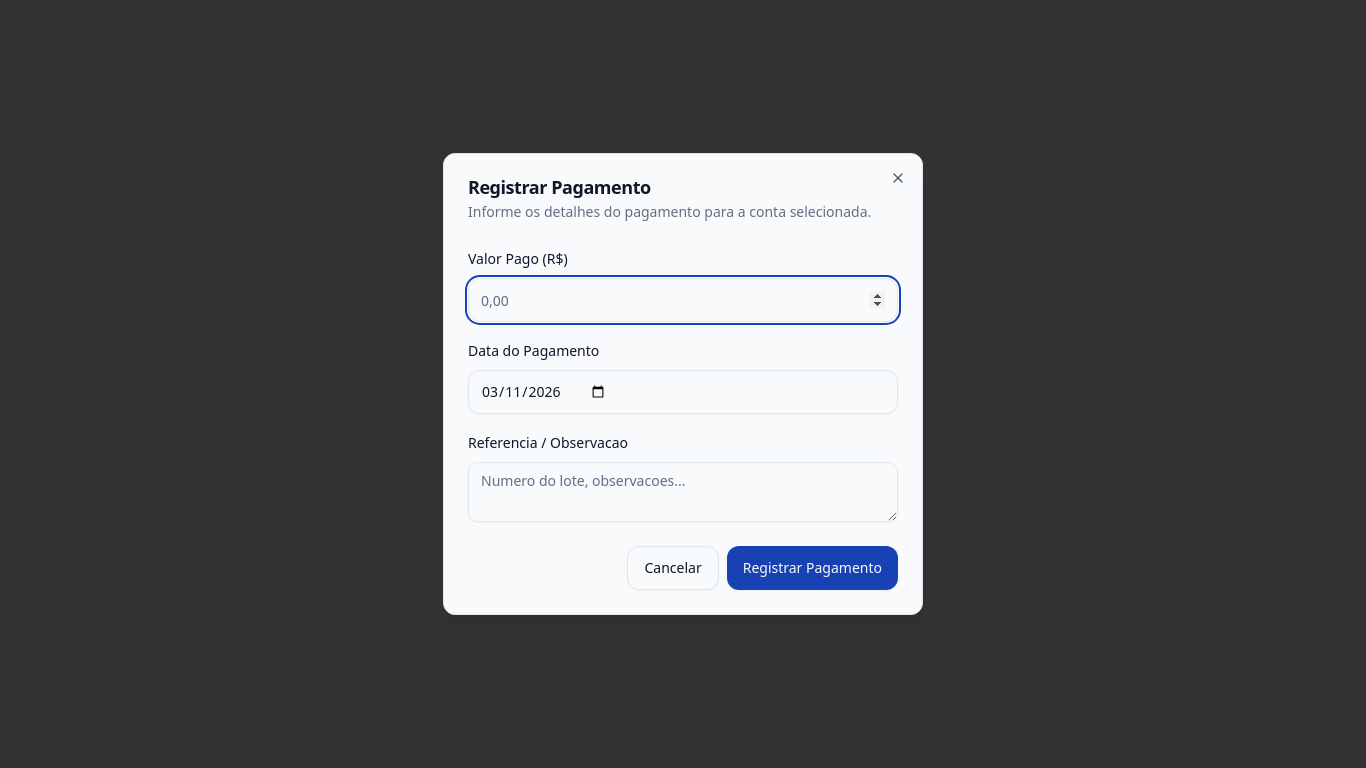
CreatePaymentModal › shows error on submission failure
Type "100" into the number field labelled "Valor Pago (R$)" at (683, 300), box [468,278,898,322]
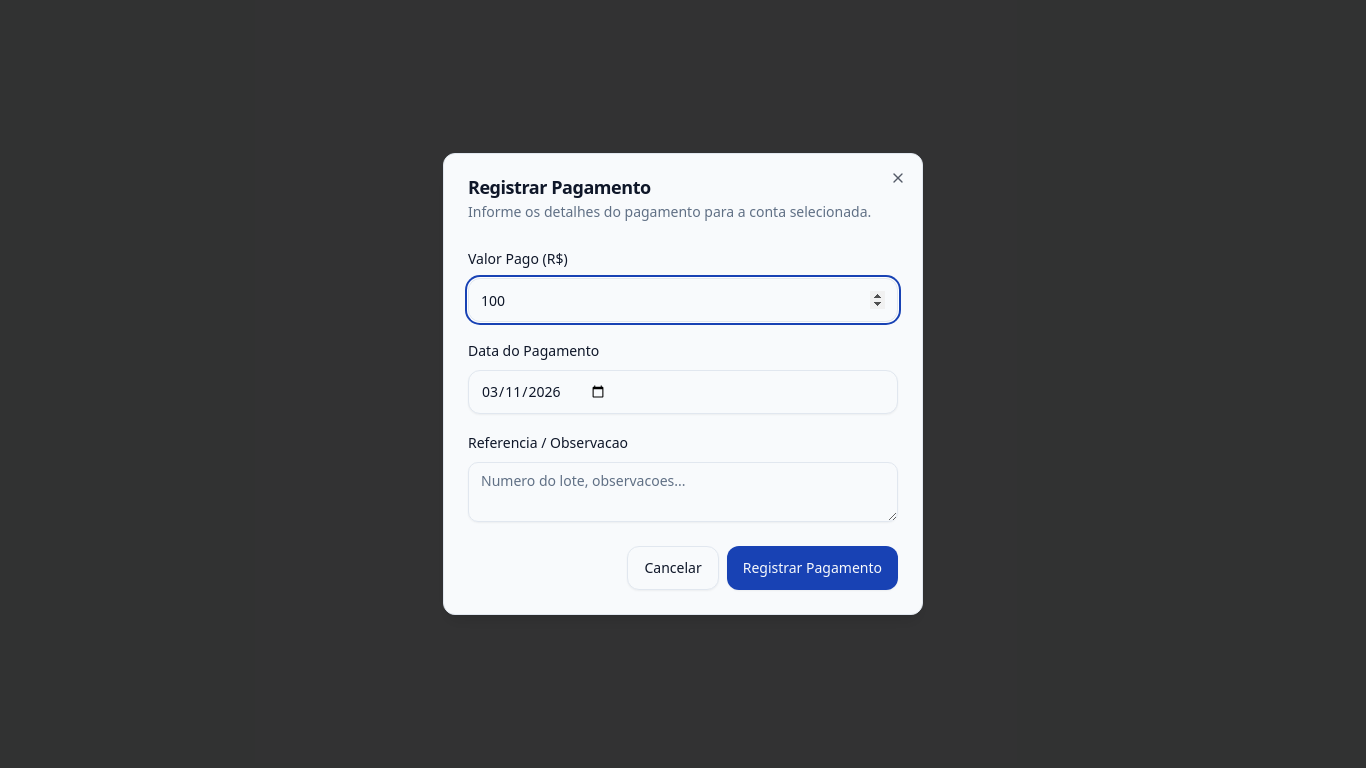
Click the button "Registrar Pagamento" at (812, 568), box [727,546,898,590]
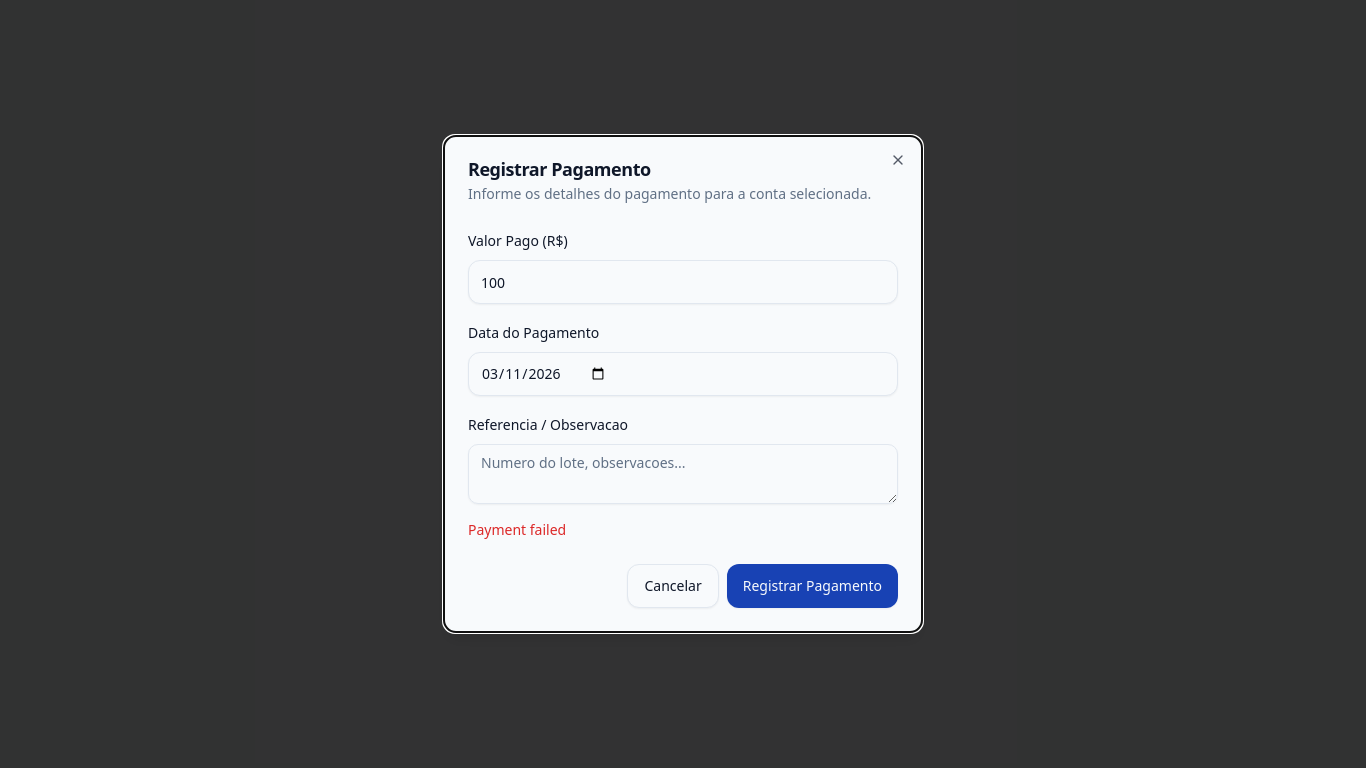
Check: the text "Payment failed" is shown, box [468,520,566,539]
